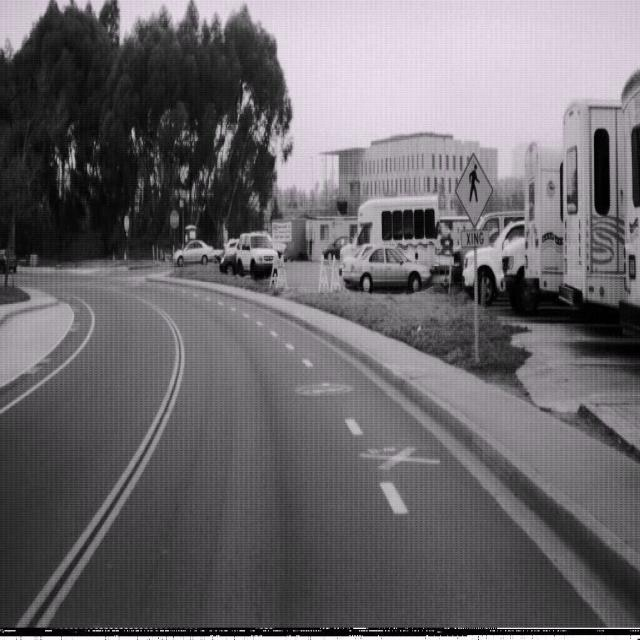pedestrianCrossing: (455, 151, 494, 224)
